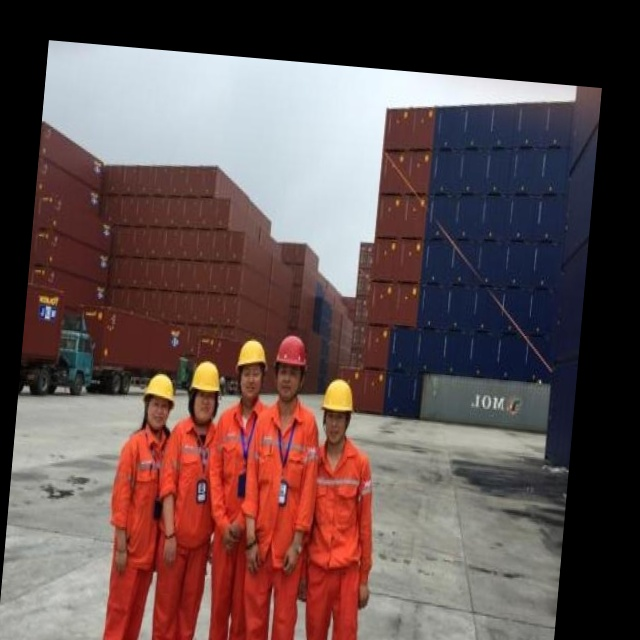Con_Casco: (272, 335, 308, 402), (236, 336, 269, 400), (318, 379, 352, 434)
